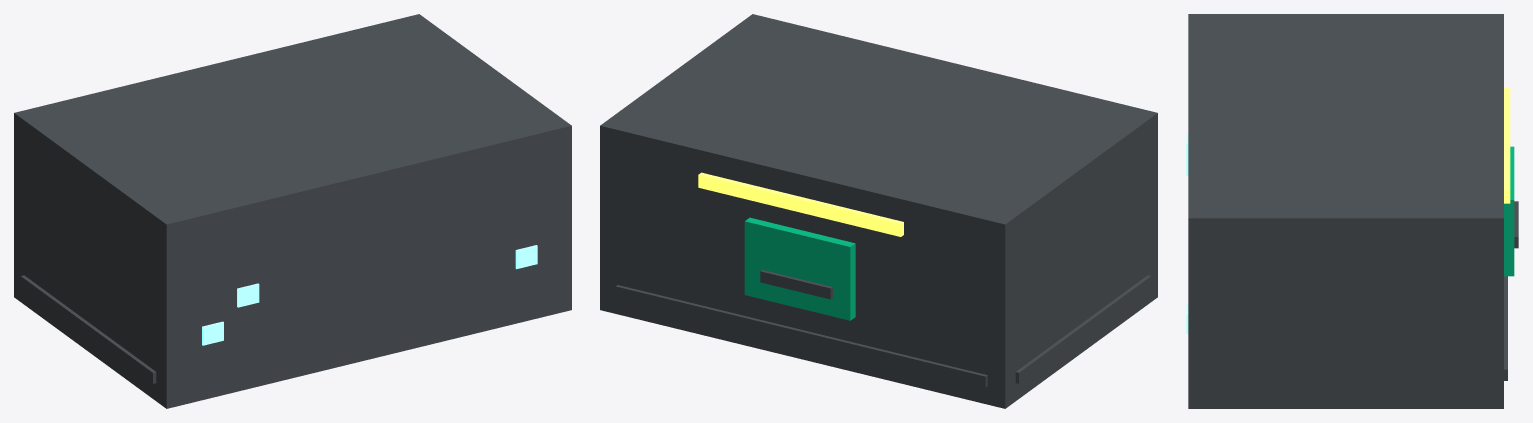
The model's file is ai_research_center_lod0-DRSmCE65.glb.
3 renders of one model, left to right at view 1: azimuth 30°, elevation 25°; view 2: azimuth 150°, elevation 25°; view 3: azimuth 270°, elevation 25°, orthographic. The views are drawn at different scales.
Parts seen in each view (by area): view 1: body, window; view 2: body, sign; view 3: body, sign.
Part boxes in pixels (left/top/right/bottom): body: left=14, top=14, right=571, bottom=408; window: left=202, top=245, right=537, bottom=345; body: left=600, top=14, right=1157, bottom=408; sign: left=698, top=172, right=903, bottom=236; body: left=1188, top=14, right=1518, bottom=408; sign: left=1504, top=88, right=1510, bottom=203.
Bounding box in the file's own units: 0.928 × 0.4 × 0.632.
